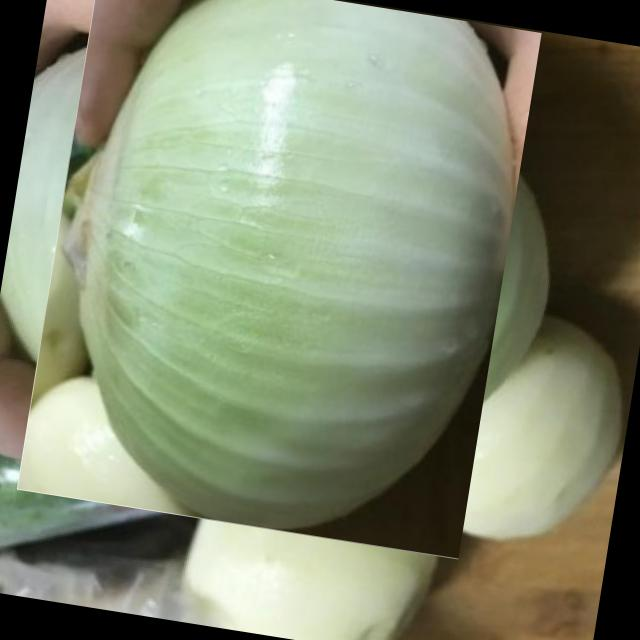Onion: (0, 0, 559, 542)
